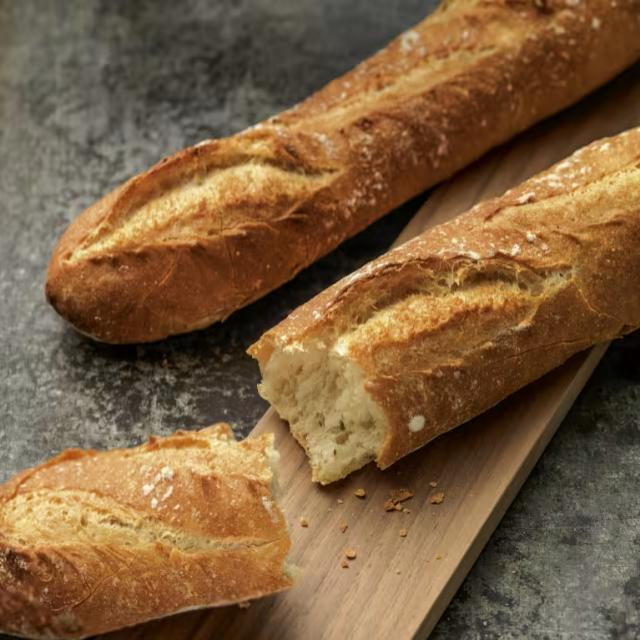Baguette: (45, 0, 639, 345), (248, 127, 640, 484)
